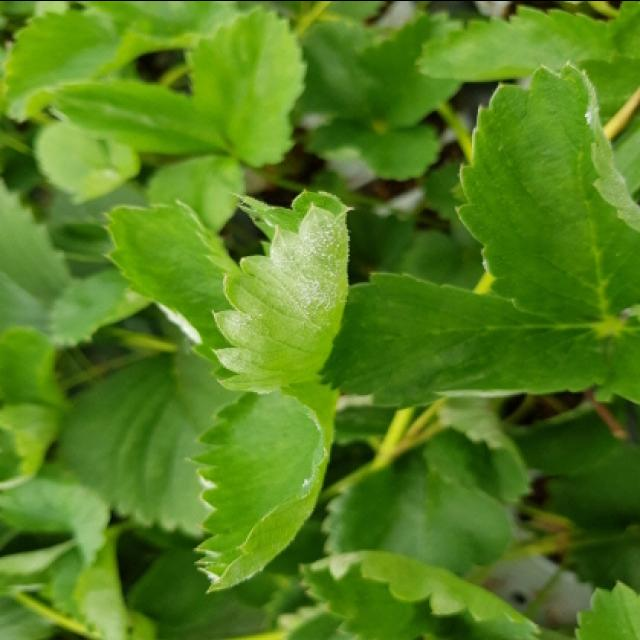Powdery Mildew Leaf: (455, 60, 638, 325), (185, 382, 341, 595), (211, 187, 355, 393), (103, 199, 240, 365)
